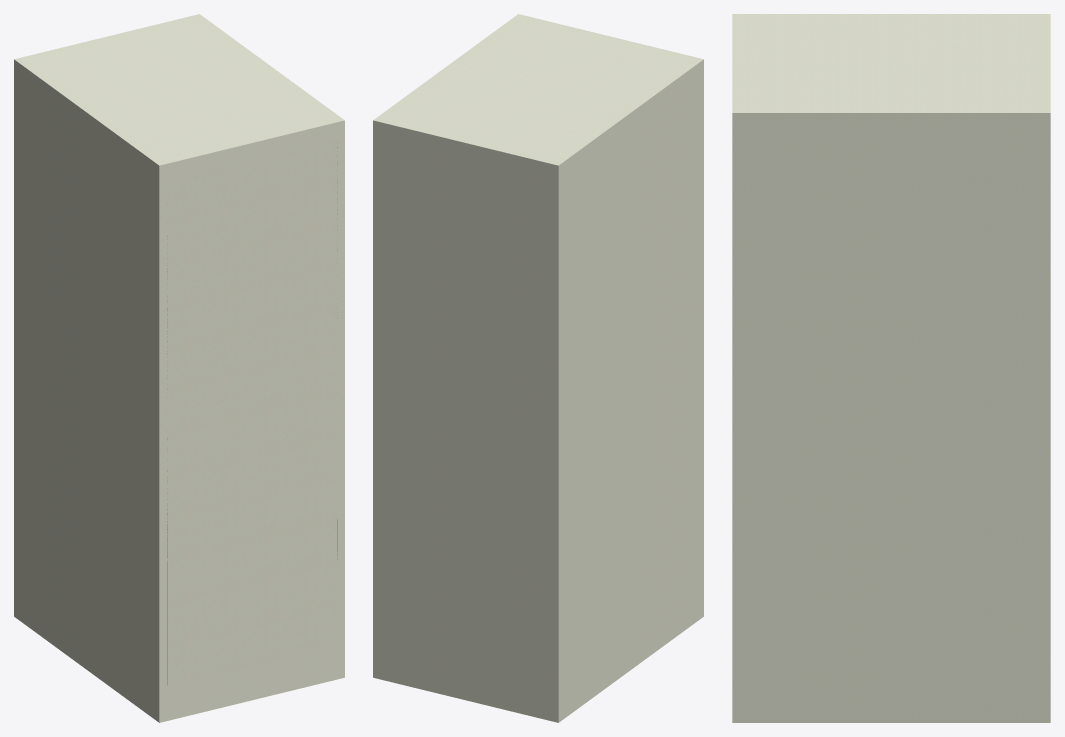
The model's file is shelf.gltf.
The picture shows the model from 3 angles, left to right: view 1: azimuth 30°, elevation 25°; view 2: azimuth 150°, elevation 25°; view 3: azimuth 270°, elevation 25°; orthographic projection. The views are drawn at different scales.
Parts seen in each view (by area): view 1: Structure, Shelf (×4), UnderShelf (×3); view 2: Structure; view 3: Structure.
Part boxes in pixels (x1,y1,x2,y2): Structure: [14, 14, 344, 722]; Shelf (×4): [167, 139, 337, 684]; UnderShelf (×3): [167, 264, 336, 564]; Structure: [373, 14, 703, 722]; Structure: [732, 14, 1050, 722].
Bounding box in the file's own units: 0.46 × 1.32 × 0.624.
2 materials, 1 textured.
